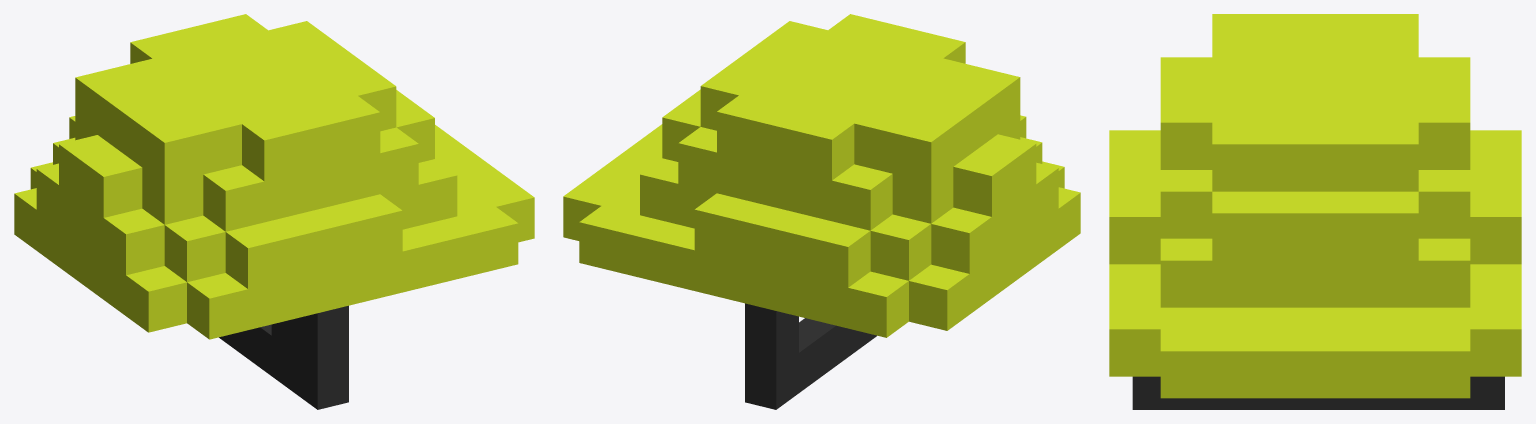
Rendered from hard-hat-google_9AMKar2NlkX-blocky.glb.
3 views of the same model, side by side, from view 1: azimuth 30°, elevation 25°; view 2: azimuth 150°, elevation 25°; view 3: azimuth 270°, elevation 25° (orthographic). The views are drawn at different scales.
Visible parts, largest first — view 1: Sphere001, Box001; view 2: Sphere001, Box001; view 3: Sphere001, Box001.
Boxes of the visible parts, x1,y1,x2,y2 form: Sphere001: (14,14,534,339); Box001: (219,305,348,409); Sphere001: (563,14,1080,337); Box001: (745,303,876,409); Sphere001: (1109,14,1521,398); Box001: (1132,376,1504,409).
Bounding box in the file's own units: 555139 × 371631 × 445490.
